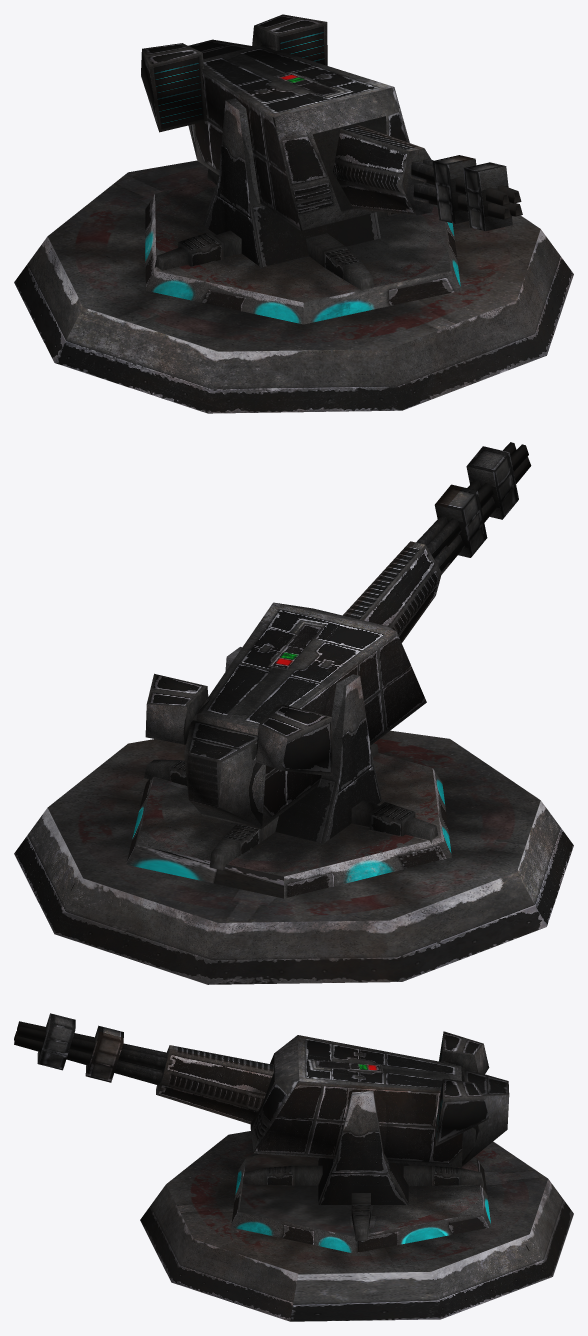
File: canon_plasma_lod2.obj
3 renders of one model, top to bottom at view 1: azimuth 30°, elevation 25°; view 2: azimuth 150°, elevation 25°; view 3: azimuth 270°, elevation 25°, orthographic. The views are drawn at different scales.
Parts seen in each view (by area): view 1: canon_plasma_lod2.obj; view 2: canon_plasma_lod2.obj; view 3: canon_plasma_lod2.obj.
Boxes of the visible parts, x1=… form: canon_plasma_lod2.obj: x1=14, y1=14, x2=573, y2=413; canon_plasma_lod2.obj: x1=14, y1=442, x2=573, y2=984; canon_plasma_lod2.obj: x1=14, y1=1013, x2=573, y2=1321.
Bounding box in the file's own units: 2.29 × 1.26 × 2.99.
Materials: 1 (1 with a texture image).
